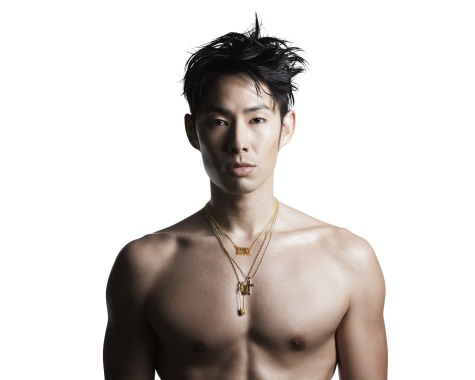male: (176, 24, 318, 223)
